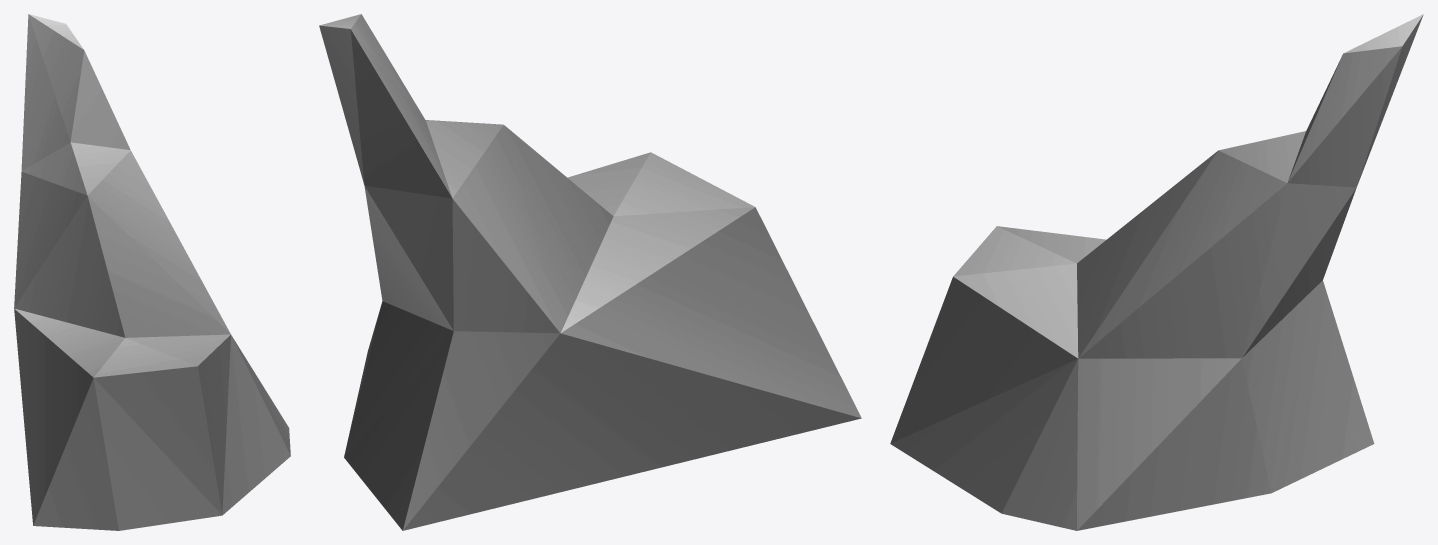
Rendered from GL-Rock-04-LOD3.fbx.
3 views of the same model, side by side, from view 1: azimuth 30°, elevation 25°; view 2: azimuth 150°, elevation 25°; view 3: azimuth 270°, elevation 25° (orthographic). The views are drawn at different scales.
Parts seen in each view (by area): view 1: GL_Rock_04; view 2: GL_Rock_04; view 3: GL_Rock_04.
Boxes of the visible parts, <box> form: GL_Rock_04: <box>14,14,290,530</box>; GL_Rock_04: <box>319,14,861,530</box>; GL_Rock_04: <box>890,14,1423,530</box>.
Bounding box in the file's own units: 2.44 × 2.74 × 3.02.
